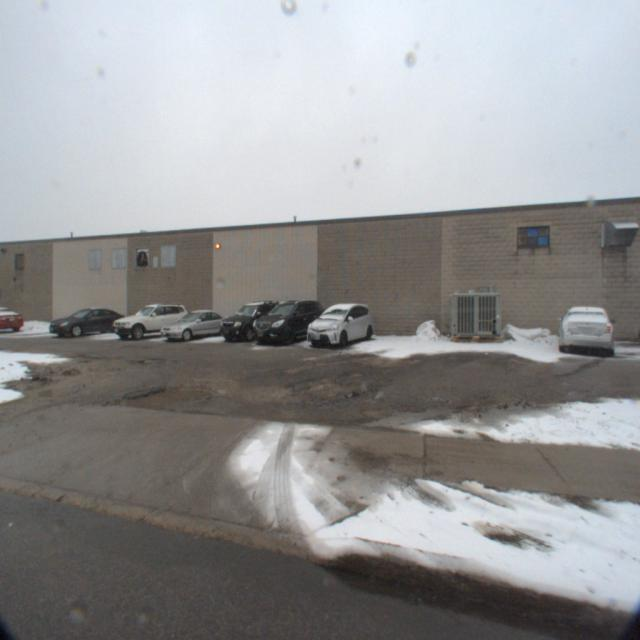Car: (244, 295, 328, 348), (298, 299, 376, 349), (212, 296, 290, 344), (103, 301, 191, 343), (553, 300, 613, 359), (152, 306, 235, 344), (38, 308, 126, 342)
